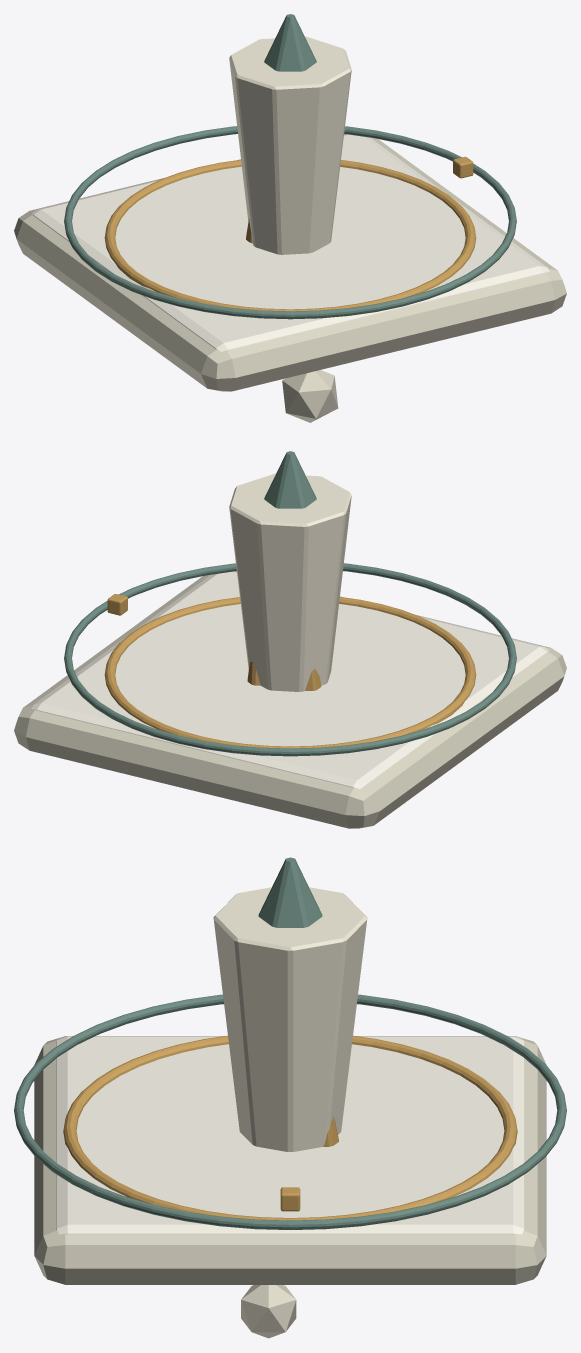
File: island_embedding.glb
The picture shows the model from 3 angles, top to bottom: view 1: azimuth 30°, elevation 25°; view 2: azimuth 150°, elevation 25°; view 3: azimuth 270°, elevation 25°; orthographic projection. The views are drawn at different scales.
Parts seen in each view (by area): view 1: island_embedding; view 2: island_embedding; view 3: island_embedding.
Part boxes in pixels (<box>): island_embedding: <box>14,14,566,422</box>; island_embedding: <box>14,451,566,828</box>; island_embedding: <box>14,857,566,1338</box>.
Bounding box in the file's own units: 2.85 × 2.44 × 2.85.
